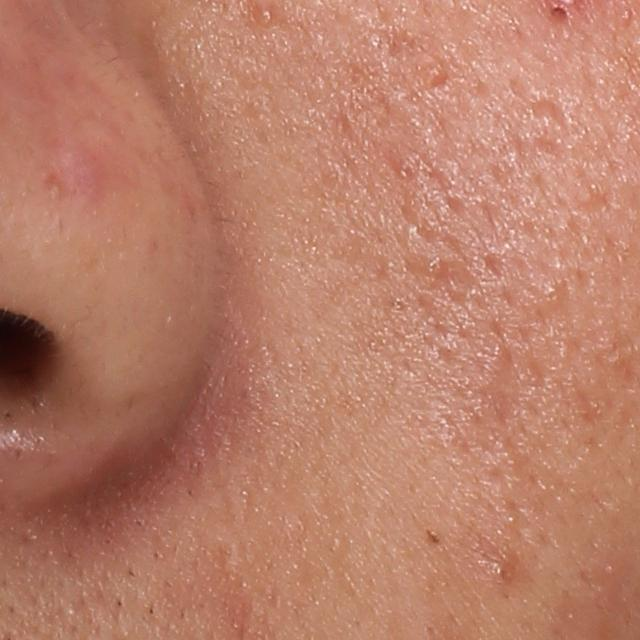atrophic_scar: (404, 253, 488, 312), (528, 94, 577, 135)
comedo: (258, 3, 278, 28), (544, 280, 564, 301)
